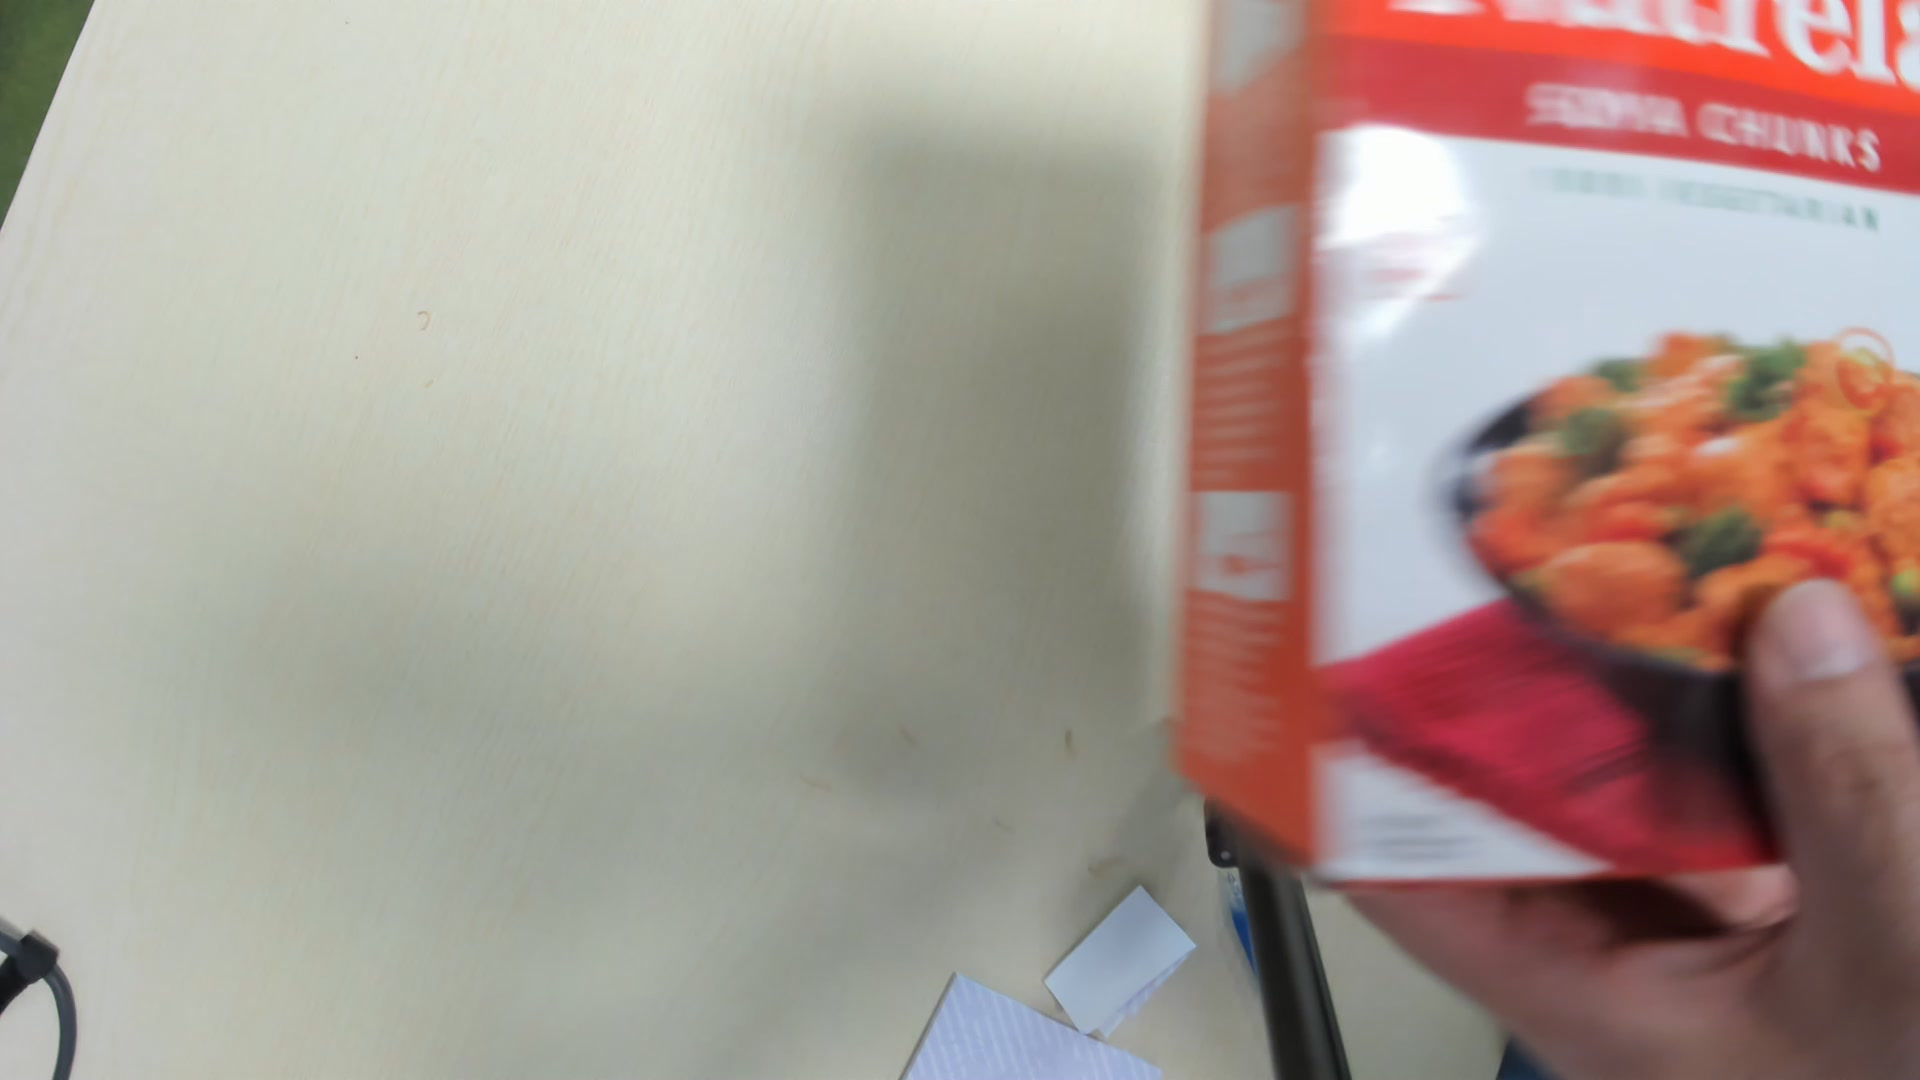InstantMeals_200_299g_NonHalal_NonHealthy: (1211, 11, 1920, 884)
